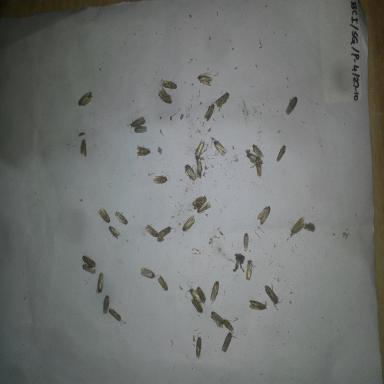pbw: (240, 231, 256, 260), (206, 278, 223, 304), (263, 283, 282, 306), (242, 256, 258, 282), (208, 310, 226, 332), (152, 172, 174, 190), (220, 315, 237, 336), (210, 136, 227, 156), (195, 152, 208, 178), (192, 334, 204, 362), (76, 90, 94, 108), (275, 142, 289, 165), (220, 332, 234, 355), (290, 215, 306, 235), (156, 225, 176, 241), (214, 92, 230, 112), (248, 297, 268, 313), (285, 95, 299, 117), (79, 260, 96, 278), (197, 198, 213, 217), (158, 86, 174, 105), (191, 293, 203, 317), (160, 76, 178, 92), (97, 206, 112, 225), (192, 193, 207, 212), (256, 206, 271, 225), (193, 138, 206, 159), (204, 101, 217, 122), (107, 307, 123, 324), (157, 274, 170, 294), (109, 220, 122, 240), (135, 144, 151, 160), (196, 73, 214, 87), (100, 294, 111, 316), (95, 271, 105, 295), (140, 266, 156, 281), (144, 223, 159, 239), (183, 164, 197, 181), (182, 215, 196, 232), (245, 152, 263, 165), (197, 285, 209, 304), (115, 211, 130, 226), (189, 286, 202, 303), (82, 255, 98, 268), (130, 116, 146, 128), (79, 138, 88, 158), (252, 144, 264, 158), (130, 125, 148, 134), (255, 155, 262, 177)
